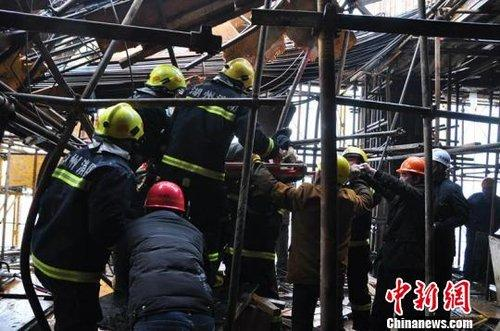gloves: (249, 162, 276, 196), (271, 128, 292, 150), (359, 162, 377, 179)
hard-hat: (94, 101, 144, 140), (143, 180, 186, 212), (219, 57, 255, 89), (145, 64, 186, 92), (316, 155, 350, 184), (395, 156, 425, 176), (341, 145, 368, 162), (432, 147, 451, 167)
person: (158, 57, 281, 291), (28, 102, 146, 331), (250, 153, 373, 330), (113, 179, 216, 330), (359, 156, 428, 331), (425, 147, 471, 317), (428, 148, 470, 283), (462, 177, 500, 287)
ppe-suit: (29, 138, 137, 328), (173, 84, 240, 233)
